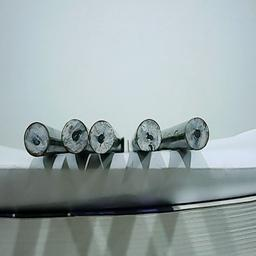pen: (23, 120, 52, 157), (59, 118, 88, 155), (88, 119, 117, 156), (133, 117, 162, 154), (182, 115, 211, 152)
